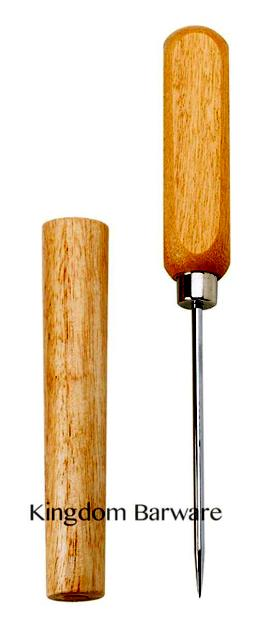ice pick: (163, 24, 231, 600)
